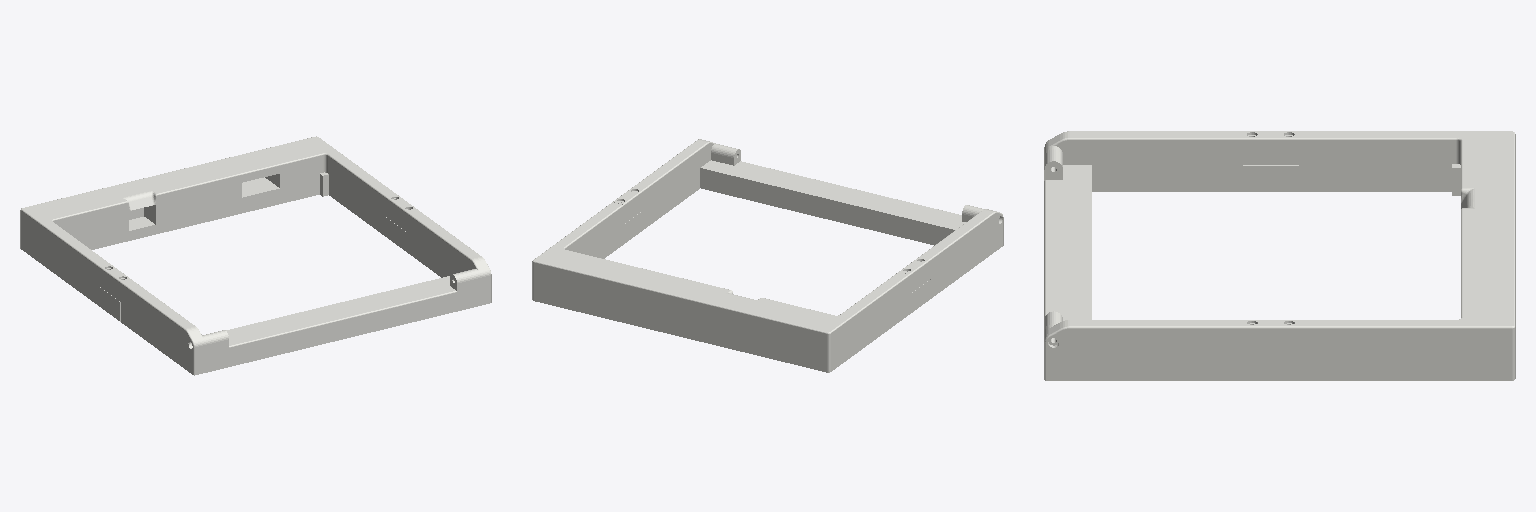
robot.urdf — cb_doorlatch_frame:
<?xml version="1.0"?>
<!-- ContactBench door frame (door_latch_tasks.py) -->
<robot name="cb_doorlatch_frame">
  <material name="c"><color rgba="0.92 0.92 0.90 1.0"/></material>
  <link name="receptive">
    <visual><origin xyz="0 0 0" rpy="0 0 0"/><geometry><mesh filename="doorlatch_frame.obj" scale="1 1 1"/></geometry><material name="c"/></visual>
    <collision><origin xyz="0.038850 -0.049750 0.008500" rpy="0 0 0"/><geometry><box size="0.250500 0.254000 0.017000"/></geometry></collision>
    <collision><origin xyz="-0.081025 -0.049750 0.024500" rpy="0 0 0"/><geometry><box size="0.010750 0.254000 0.015000"/></geometry></collision>
    <collision><origin xyz="0.158725 -0.049750 0.024500" rpy="0 0 0"/><geometry><box size="0.010750 0.254000 0.015000"/></geometry></collision>
    <collision><origin xyz="0.038850 0.062500 0.024500" rpy="0 0 0"/><geometry><box size="0.229000 0.029500 0.015000"/></geometry></collision>
  </link>
</robot>

--- Render facts (derived) ---
3 views of the same robot in one strip: view 1: azimuth 30°, elevation 25°; view 2: azimuth 150°, elevation 25°; view 3: azimuth 270°, elevation 25° (orthographic).
Model cb_doorlatch_frame with 1 links and 0 joints (none), rooted at receptive, posed all joints at 0.
Visible links, largest first — view 1: receptive; view 2: receptive; view 3: receptive.
Link boxes in pixels (x1,y1,x2,y2): receptive: [20, 136, 491, 375]; receptive: [532, 139, 1003, 372]; receptive: [1044, 131, 1515, 380].
Bounding box of the posed robot: 0.2505 × 0.254 × 0.032 m (x, y, z).
1 mesh visuals loaded from 1 distinct referenced files (1 OBJ).
